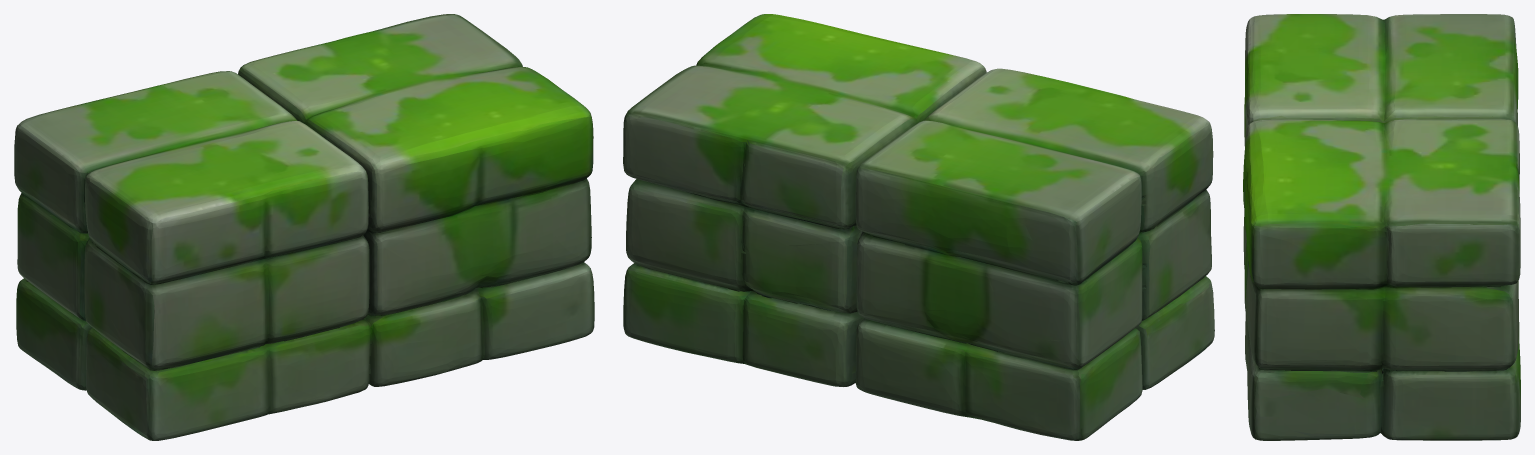
The model's file is tile_stonegrassy.glb.
3 views of the same model, side by side, from view 1: azimuth 30°, elevation 25°; view 2: azimuth 150°, elevation 25°; view 3: azimuth 270°, elevation 25° (orthographic). The views are drawn at different scales.
Visible parts, largest first — view 1: world; view 2: world; view 3: world.
Boxes of the visible parts, x1,y1,x2,y2 form: world: [14, 14, 594, 440]; world: [623, 14, 1214, 440]; world: [1243, 14, 1520, 440].
Size of the model in its own units: 0.9894 by 0.4822 by 0.5436.
1 material, 1 textured.
